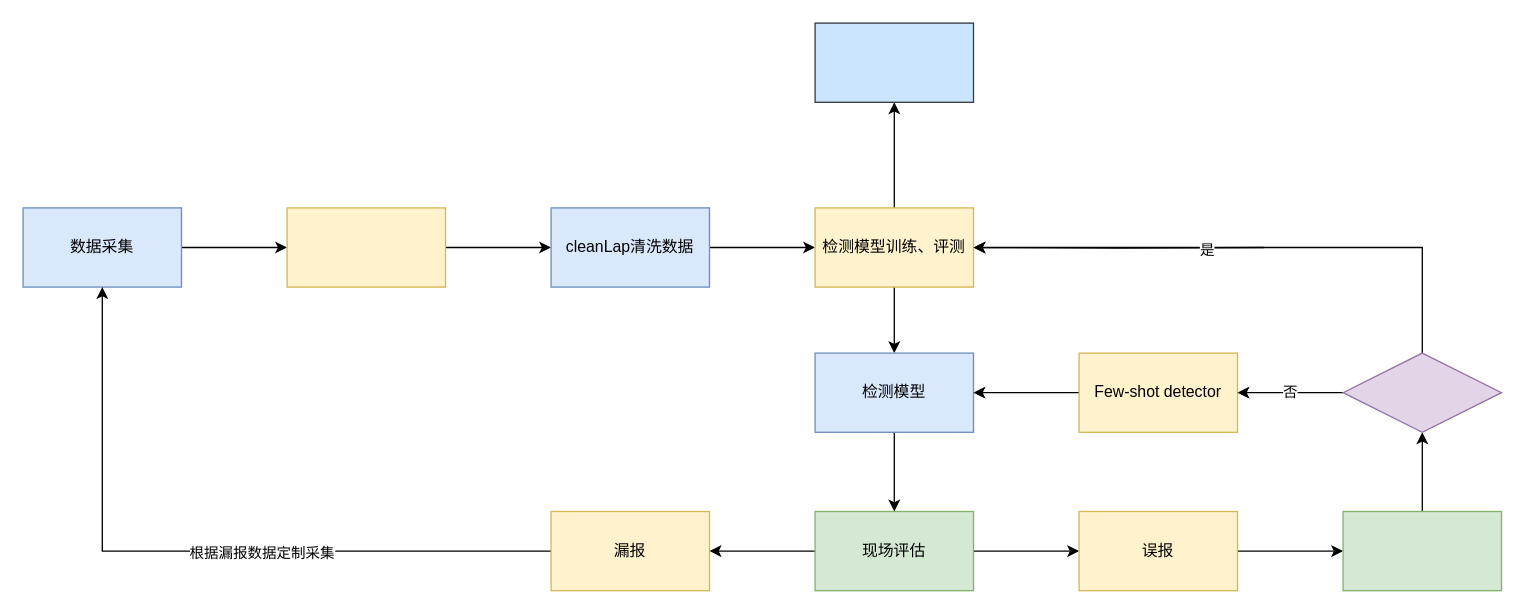
Some shapes in this 1525 by 614 pixel diagram are drawn without their labels. Here are the shapes that lost their labels. From the top down, the centre of each, then its label:
pixel 894 62: 扩增测试集
pixel 366 247: 自动标注
pixel 1422 392: 是否累计一定量
pixel 1422 550: 误报采集
